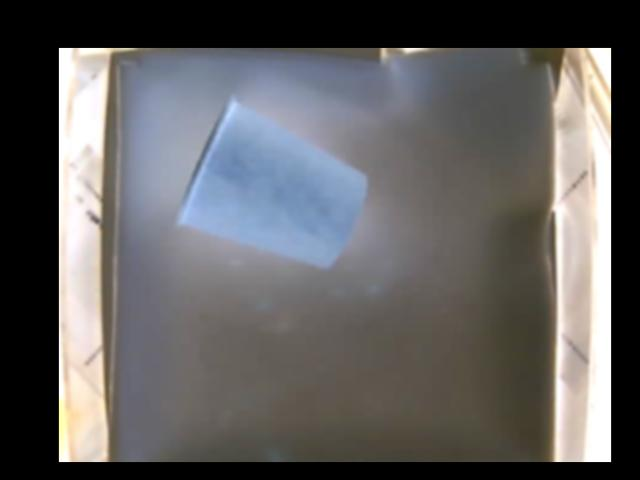Cup: (171, 97, 368, 266)
